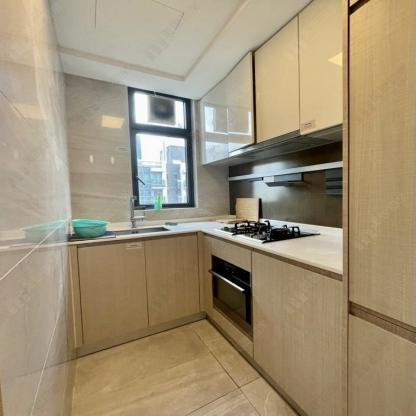Exhaust Fan: (147, 94, 177, 126)
Exhaust Hood: (228, 129, 335, 159)
Faucet: (125, 195, 148, 227)
Oven: (211, 254, 255, 344)
Stove: (201, 217, 338, 248)
